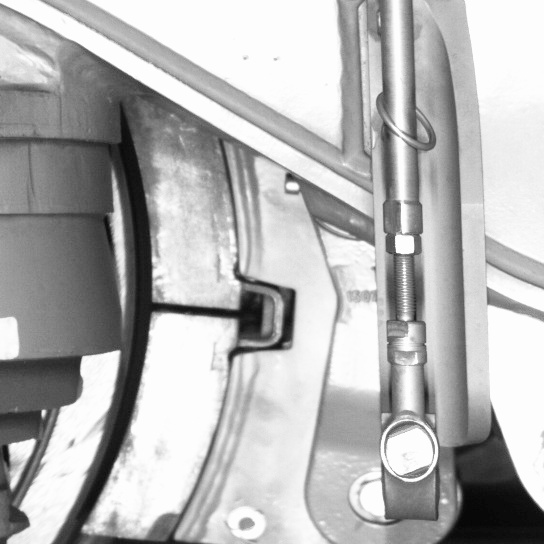KnifeSwitch: (52, 137, 237, 542)
